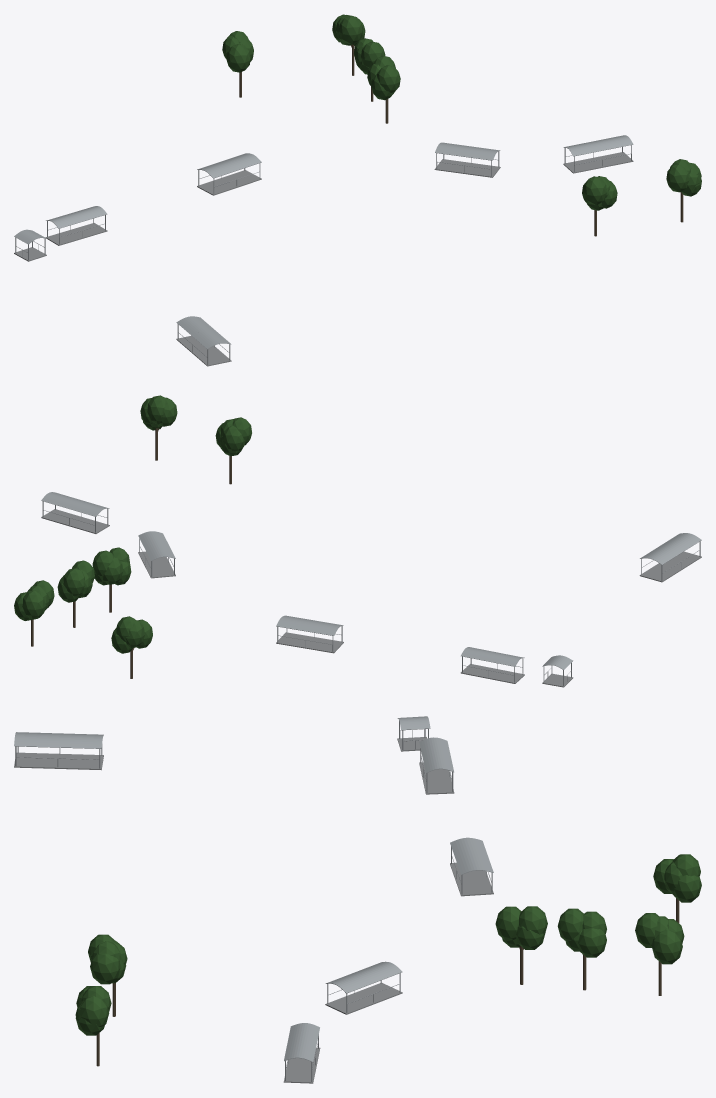
The model's file is street_core.glb.
3 renders of one model, top to bottom at view 1: azimuth 30°, elevation 25°; view 2: azimuth 150°, elevation 25°; view 3: azimuth 270°, elevation 25°, orthographic. The views are drawn at different scales.
Visible parts, largest first — view 1: street_tree_leaves, street_concrete, street_roof, street_steel; view 2: street_tree_leaves, street_roof, street_concrete, street_steel, street_tree_bark; view 3: street_tree_leaves, street_roof, street_concrete, street_steel, street_tree_bark.
Boxes of the visible parts, <box> form: street_tree_leaves: <box>222,14,701,210</box>; street_concrete: <box>14,152,633,366</box>; street_roof: <box>14,135,633,349</box>; street_steel: <box>15,145,631,364</box>; street_tree_leaves: <box>14,395,251,653</box>; street_roof: <box>41,492,701,669</box>; street_concrete: <box>41,509,701,687</box>; street_steel: <box>42,501,700,685</box>; street_tree_bark: <box>31,428,231,678</box>; street_tree_leaves: <box>75,854,701,1035</box>; street_roof: <box>14,716,493,1062</box>; street_concrete: <box>14,737,493,1083</box>; street_steel: <box>15,720,492,1081</box>; street_tree_bark: <box>96,898,679,1066</box>.
Size of the model in its own units: 84.36 by 10.06 by 71.71.
